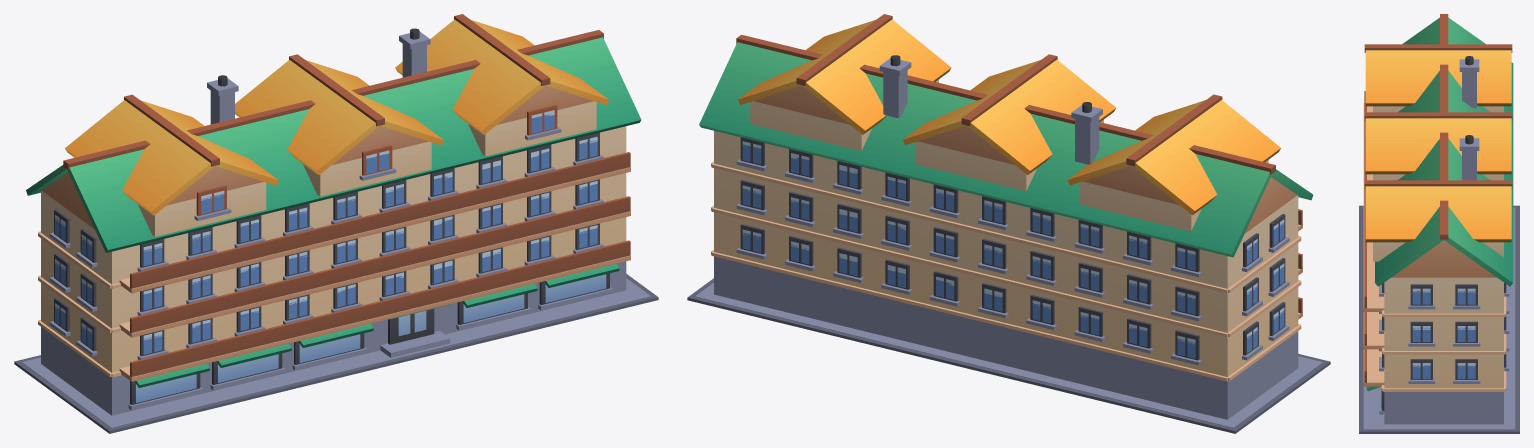
The model's file is res_alpine_apartments_3x1.glb.
3 views of the same model, side by side, from view 1: azimuth 30°, elevation 25°; view 2: azimuth 150°, elevation 25°; view 3: azimuth 270°, elevation 25° (orthographic). The views are drawn at different scales.
Parts seen in each view (by area): view 1: res_alpine_apartments_3x1; view 2: res_alpine_apartments_3x1; view 3: res_alpine_apartments_3x1.
Boxes of the visible parts, box(x1,y1,x2,y2) form: res_alpine_apartments_3x1: box(14, 14, 658, 433); res_alpine_apartments_3x1: box(687, 14, 1330, 433); res_alpine_apartments_3x1: box(1359, 14, 1519, 433).
Bounding box in the file's own units: 5.72 × 2.64 × 1.72.
1 material, 1 textured.
